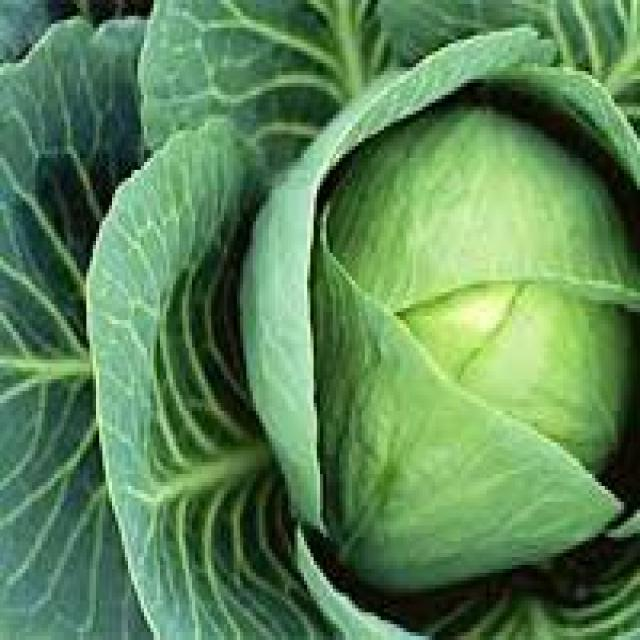cabbage: (193, 21, 640, 640)
